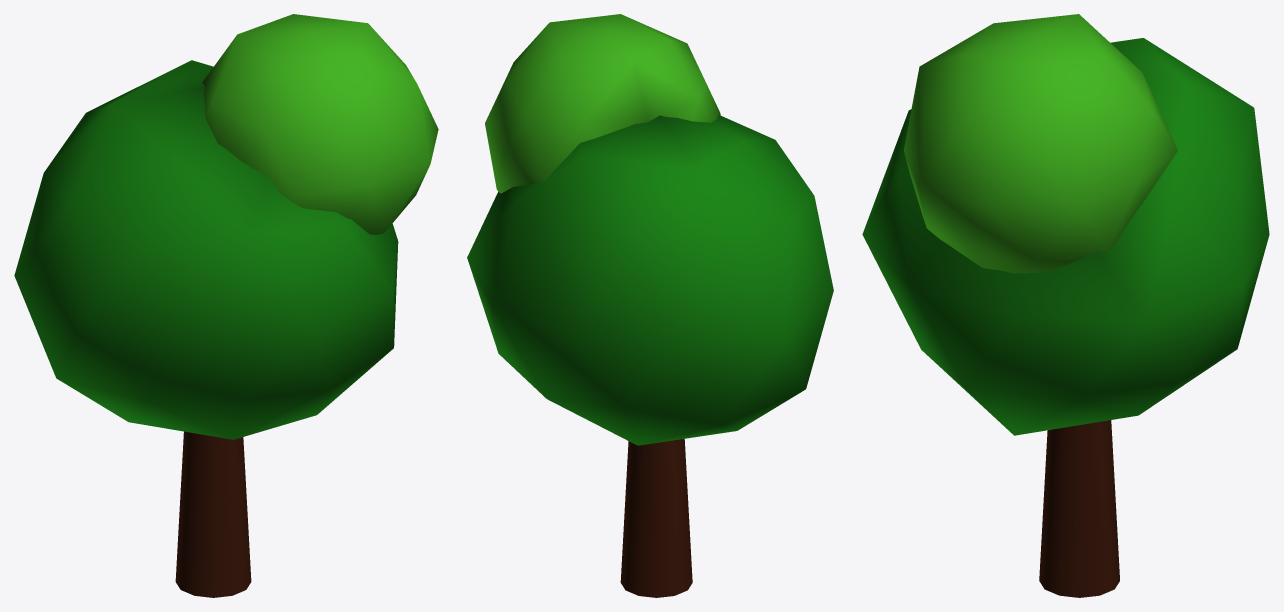
Rendered from TestTree.fbx.
The picture shows the model from 3 angles, left to right: view 1: azimuth 30°, elevation 25°; view 2: azimuth 150°, elevation 25°; view 3: azimuth 270°, elevation 25°; orthographic projection. The views are drawn at different scales.
Visible parts, largest first — view 1: TestTree; view 2: TestTree; view 3: TestTree.
Boxes of the visible parts, x1,y1,x2,y2 form: TestTree: [14, 14, 438, 597]; TestTree: [467, 14, 833, 597]; TestTree: [862, 14, 1269, 597].
Size of the model in its own units: 1.93 by 2.87 by 1.81.
